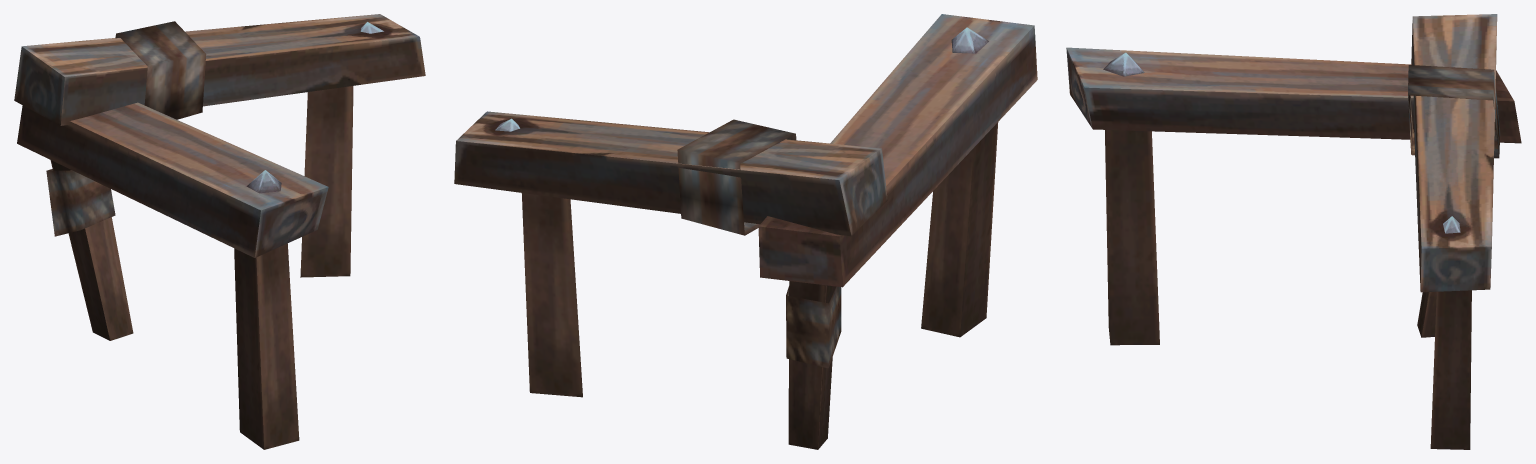
The model's file is mine_railing09.fbx.
The picture shows the model from 3 angles, left to right: view 1: azimuth 30°, elevation 25°; view 2: azimuth 150°, elevation 25°; view 3: azimuth 270°, elevation 25°; orthographic projection. The views are drawn at different scales.
Visible parts, largest first — view 1: 13_-_Default; view 2: 13_-_Default; view 3: 13_-_Default.
Part boxes in pixels (bbox=[...]): 13_-_Default: bbox=[14, 14, 425, 449]; 13_-_Default: bbox=[454, 14, 1037, 449]; 13_-_Default: bbox=[1066, 14, 1521, 449].
Bounding box in the file's own units: 2.43 × 1.72 × 2.48.
